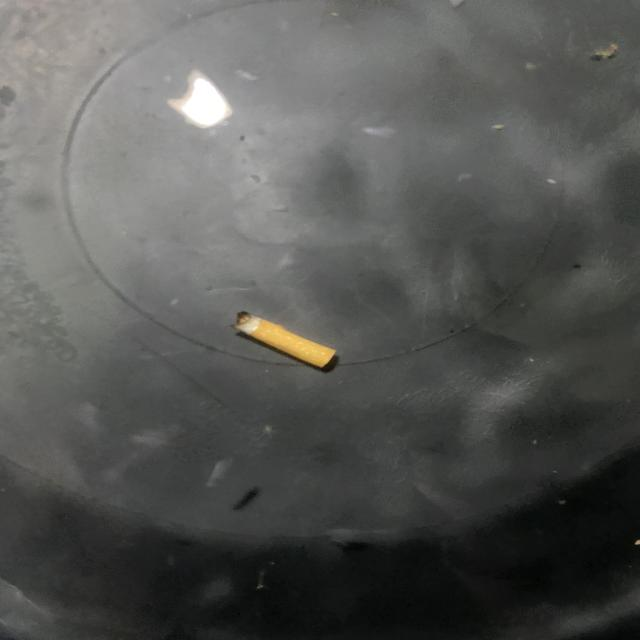Cigarette Filter: (233, 311, 338, 372)
